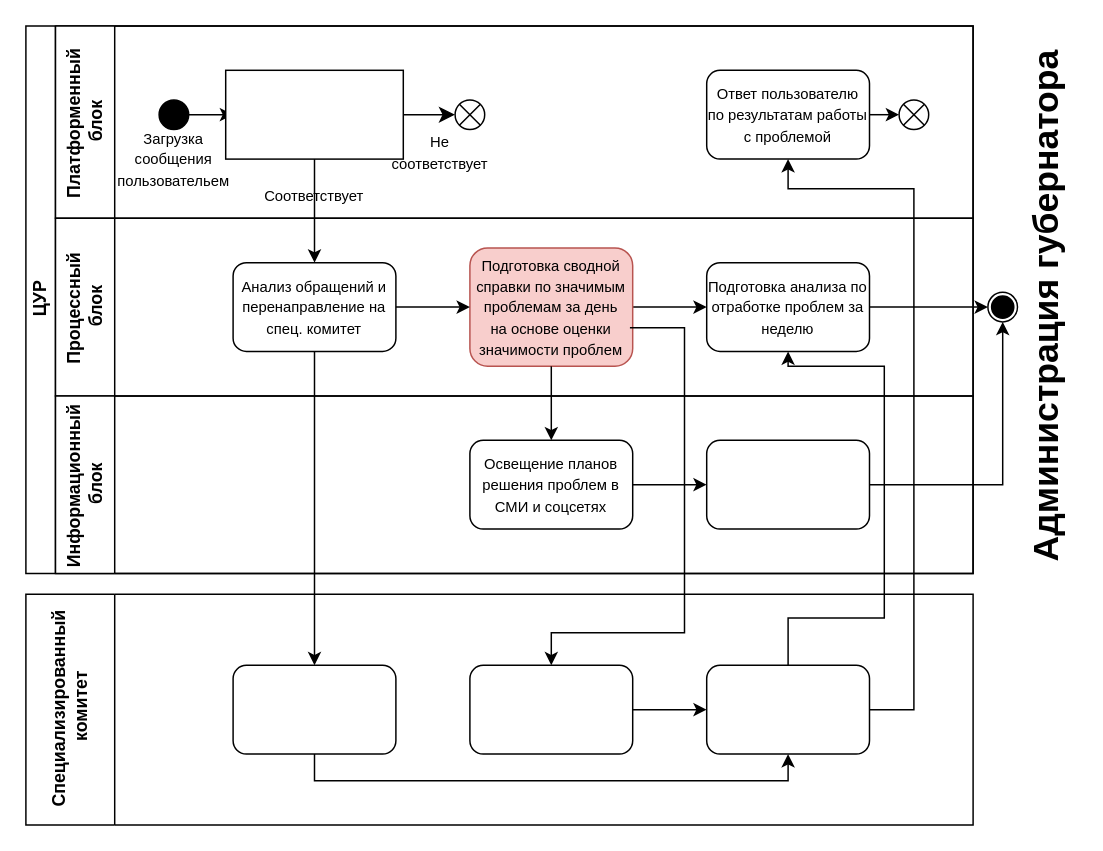
This 1103x851 diagram has some shape labels left out. The centre of each missing label's shape, as x and y in pixels:
Инцидентное устранение проблем: (550,709)
Планирование мероприятий по устранению проблем: (314,709)
Подготовка отчета по устранению и планированию устранения проблем: (787,709)
Предложения по выезду уполномоченных органов: (787,484)
Проверка сообщений на корректность и соответствие требованиям: (313,114)
